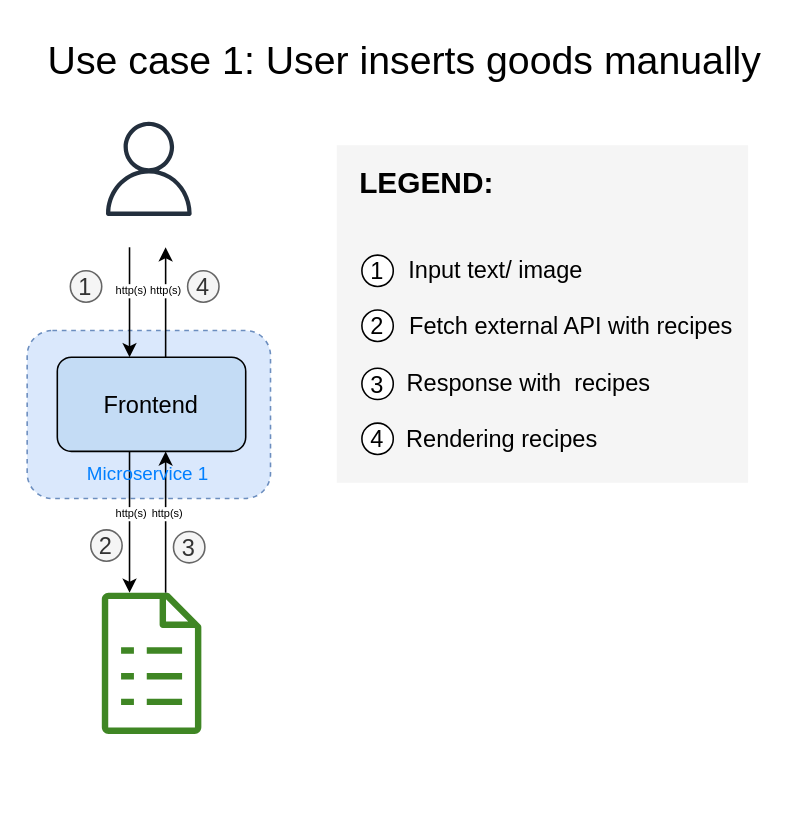
The diagram is 809 pixels wide and 824 high, and some of its shapes have lost their labels. Each missing label, with the box of its shape:
Recipe API: (101, 592, 201, 733)
User: (101, 121, 195, 215)
